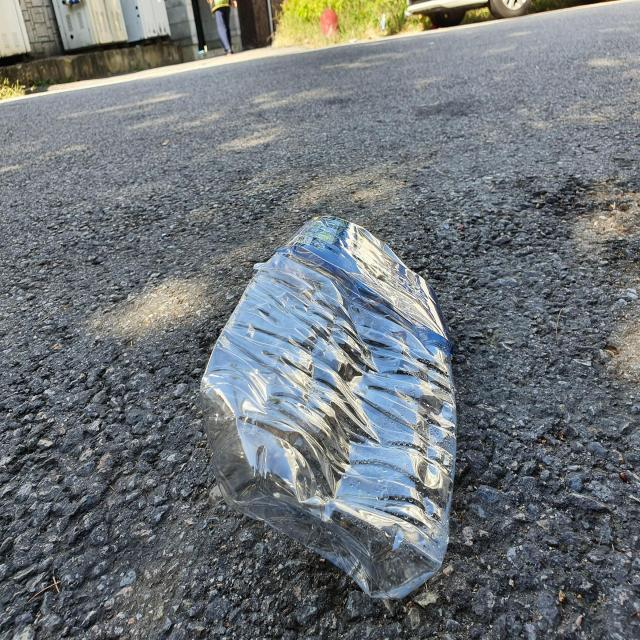plastic: (201, 216, 457, 599)
